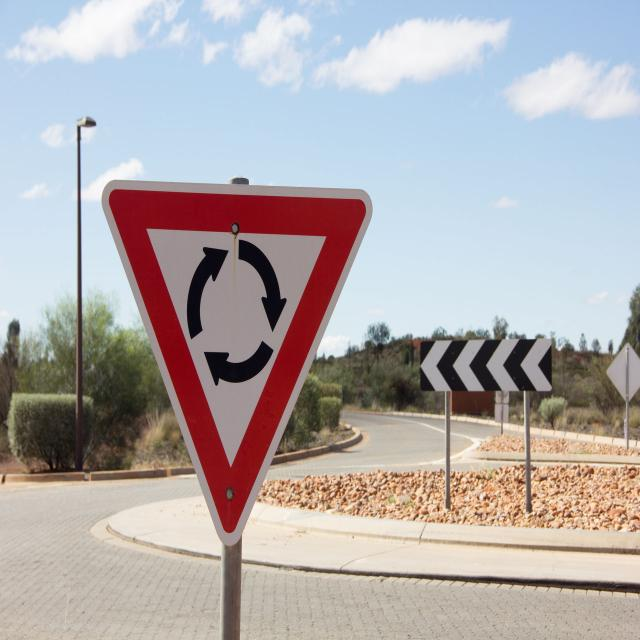Traffic sign: (98, 165, 376, 543), (418, 334, 554, 403), (603, 339, 640, 400)
